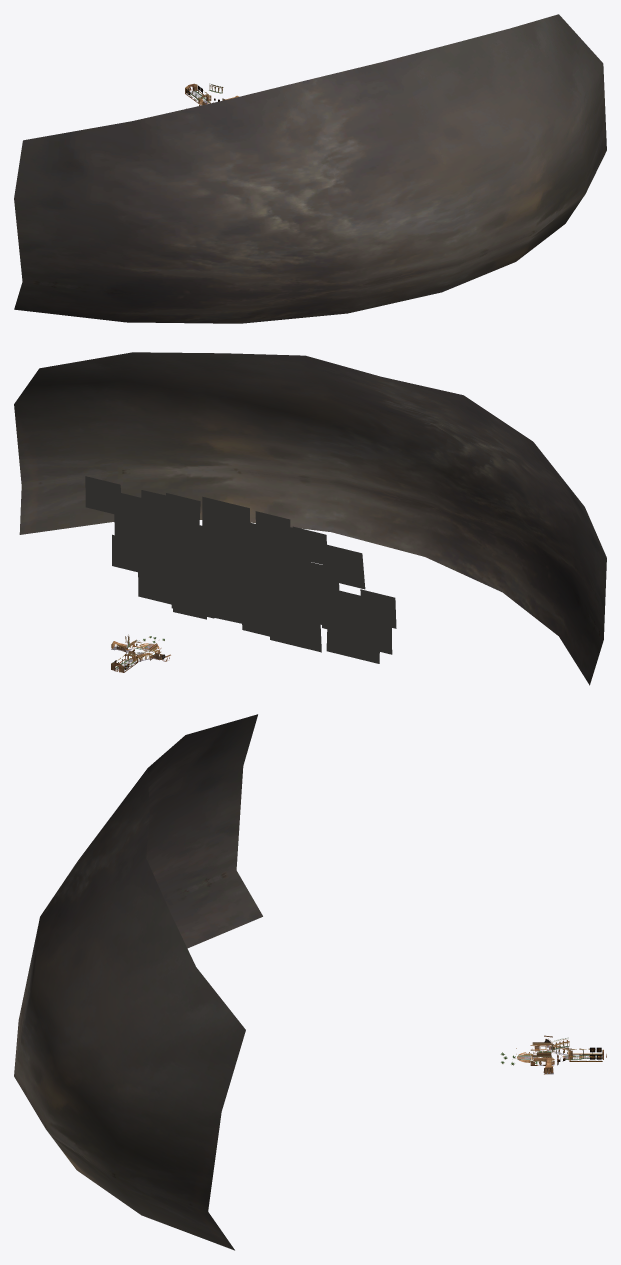
Rendered from stage_m018.glb.
The picture shows the model from 3 angles, top to bottom: view 1: azimuth 30°, elevation 25°; view 2: azimuth 150°, elevation 25°; view 3: azimuth 270°, elevation 25°; orthographic projection. The views are drawn at different scales.
Parts seen in each view (by area): view 1: g0p193; view 2: g0p193, g1p19, g1p22, g1p17, g1p21, g1p20, g1p10, g1p11, g1p08, g1p14, g1p18, g1p15 (+3 smaller); view 3: g0p193.
Part boxes in pixels (<box>): g0p193: <box>14,14,606,323</box>; g0p193: <box>14,352,606,685</box>; g1p19: <box>270,571,380,663</box>; g1p22: <box>173,550,250,623</box>; g1p17: <box>114,499,218,561</box>; g1p21: <box>138,528,214,618</box>; g1p20: <box>241,576,304,648</box>; g1p10: <box>290,526,365,590</box>; g1p11: <box>238,511,310,580</box>; g1p08: <box>202,496,256,555</box>; g1p14: <box>85,476,149,522</box>; g1p18: <box>213,550,300,600</box>; g1p15: <box>322,589,396,654</box>; g0p193: <box>14,714,262,1250</box>.
Bounding box in the file's own units: 1571 × 529 × 1138.
Materials: 78 (78 with a texture image).
